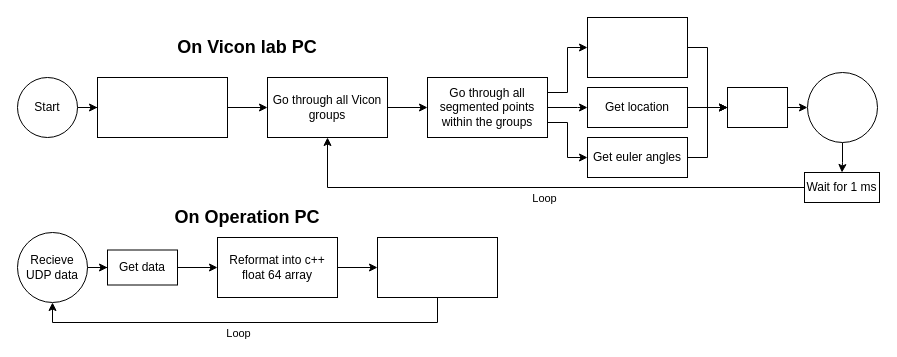
The diagram is 897 pixels wide and 357 high, and some of its shapes have lost their labels. Here are the shapes that lost their labels. From the top down, the centre of each, then its label:
At [637,47]: "Get second and miliseconds through date time libary".
At [162,107]: "Connect to Vicon Datastream SDK through localhost:801".
At [757,107]: "Format array".
At [842,107]: "Transmit via UDP".
At [437,267]: "Publish array on ROS node called Vicon_UDP_Data".
